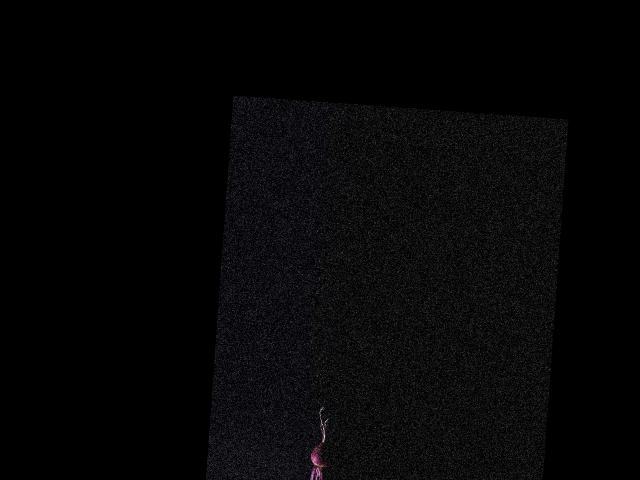beet: (307, 405, 336, 480)
